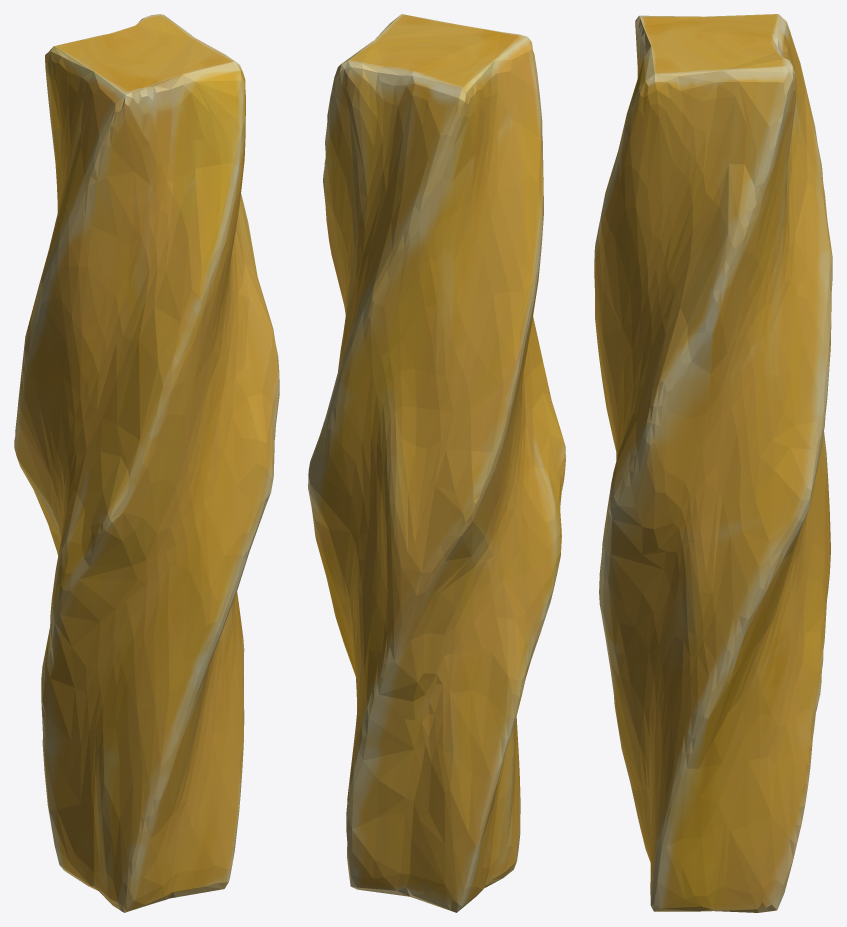
Rendered from Pillar_FBX.fbx.
3 renders of one model, left to right at view 1: azimuth 30°, elevation 25°; view 2: azimuth 150°, elevation 25°; view 3: azimuth 270°, elevation 25°, orthographic. The views are drawn at different scales.
Visible parts, largest first — view 1: Cube; view 2: Cube; view 3: Cube.
Boxes of the visible parts, x1,y1,x2,y2 form: Cube: (14,14,279,912); Cube: (308,14,565,912); Cube: (594,14,832,912).
Bounding box in the file's own units: 304 × 1147 × 293.
1 material, 1 textured.
